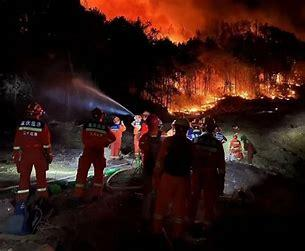smoke: (166, 63, 299, 117)
